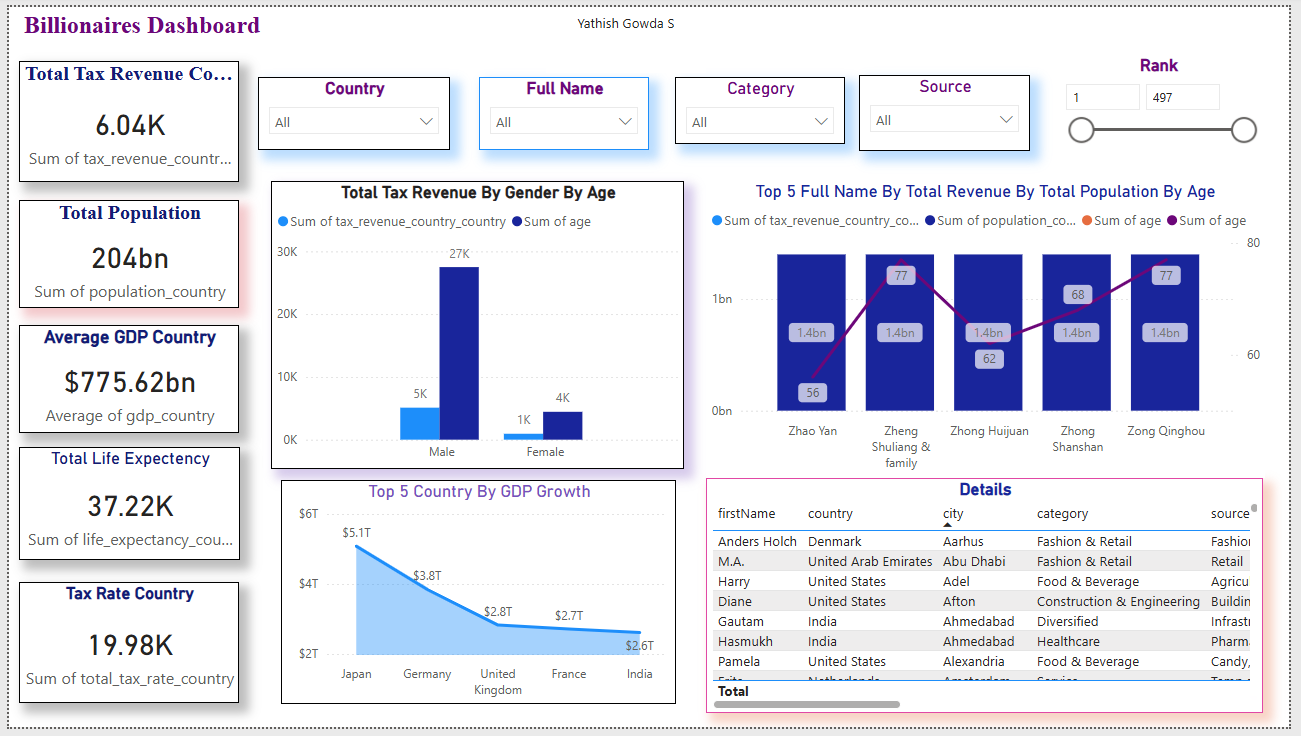

This screenshot's page, from the dashboard's own definition file:
{"tool":"powerbi","page":{"name":"Page 1","canvas":[1280,720],"ordinal":0},"visuals":[{"type":"textbox","box":[9.7,0,280.1,47.7],"z":0},{"type":"card","title":"Total Tax Revenue Country ","fields":{"Values":["Sum(Billionaires Statistics Dataset - Billionaires Statistics Dataset.tax_revenue_country_country)"]},"box":[9.7,54.5,219.8,120.6],"z":1000},{"type":"card","title":"Total Population","fields":{"Values":["Sum(Billionaires Statistics Dataset - Billionaires Statistics Dataset.population_country)"]},"box":[10,193.3,220,107.8],"z":2000},{"type":"card","title":"Average GDP Country","fields":{"Values":["Avg(Billionaires Statistics Dataset - Billionaires Statistics Dataset.gdp_country)"]},"box":[10,317.8,220,107.8],"z":3000},{"type":"card","title":"Total Life Expectency","fields":{"Values":["Sum(Billionaires Statistics Dataset - Billionaires Statistics Dataset.life_expectancy_country)"]},"box":[9.6,440.5,220.9,112.5],"z":4000},{"type":"card","title":"Tax Rate Country","fields":{"Values":["Sum(Billionaires Statistics Dataset - Billionaires Statistics Dataset.total_tax_rate_country)"]},"box":[9.7,574.8,219.8,121.6],"z":5000},{"type":"clusteredColumnChart","title":"Total Tax Revenue By Gender By Age ","fields":{"Y":["Sum(Billionaires Statistics Dataset - Billionaires Statistics Dataset.tax_revenue_country_country)","Sum(Billionaires Statistics Dataset - Billionaires Statistics Dataset.age)"],"Category":["Billionaires Statistics Dataset - Billionaires Statistics Dataset.gender"]},"box":[262.1,174.3,413,288.2],"z":6000},{"type":"slicer","title":"Country","fields":{"Values":["Billionaires Statistics Dataset - Billionaires Statistics Dataset.country"]},"box":[249.5,69.7,192,73.4],"z":7000},{"type":"slicer","title":"Full Name ","fields":{"Values":["Billionaires Statistics Dataset - Billionaires Statistics Dataset.firstName"]},"box":[469.6,69.7,170,73.4],"z":8000},{"type":"slicer","title":"Category","fields":{"Values":["Billionaires Statistics Dataset - Billionaires Statistics Dataset.category"]},"box":[666.4,69.7,170,67.3],"z":9000},{"type":"slicer","title":"Source","fields":{"Values":["Billionaires Statistics Dataset - Billionaires Statistics Dataset.source"]},"box":[849.9,68.5,171.2,75.8],"z":10000},{"type":"slicer","title":"Rank","fields":{"Values":["Billionaires Statistics Dataset - Billionaires Statistics Dataset.rank"]},"box":[1044.3,47.7,211.6,102.7],"z":11000},{"type":"areaChart","title":"Top 5 Country By GDP Growth","fields":{"Category":["Billionaires Statistics Dataset - Billionaires Statistics Dataset.country"],"Y":["Avg(Billionaires Statistics Dataset - Billionaires Statistics Dataset.gdp_country)"]},"box":[271.7,473.4,395.2,223.7],"z":12000},{"type":"tableEx","title":"Details","fields":{"Values":["Billionaires Statistics Dataset - Billionaires Statistics Dataset.firstName","Billionaires Statistics Dataset - Billionaires Statistics Dataset.country","Billionaires Statistics Dataset - Billionaires Statistics Dataset.city","Billionaires Statistics Dataset - Billionaires Statistics Dataset.category","Billionaires Statistics Dataset - Billionaires Statistics Dataset.source","Billionaires Statistics Dataset - Billionaires Statistics Dataset.gender","Sum(Billionaires Statistics Dataset - Billionaires Statistics Dataset.tax_revenue_country_country)","Sum(Billionaires Statistics Dataset - Billionaires Statistics Dataset.total_tax_rate_country)","Avg(Billionaires Statistics Dataset - Billionaires Statistics Dataset.gdp_country)","Sum(Billionaires Statistics Dataset - Billionaires Statistics Dataset.age)","Sum(Billionaires Statistics Dataset - Billionaires Statistics Dataset.population_country)"]},"box":[697.1,471.4,557.1,234.3],"z":13000},{"type":"textbox","box":[536.8,2.4,160.2,63.6],"z":14000},{"type":"lineStackedColumnComboChart","title":"Top 5 Full Name By Total Revenue By Total Population By Age","fields":{"Y":["Sum(Billionaires Statistics Dataset - Billionaires Statistics Dataset.tax_revenue_country_country)","Sum(Billionaires Statistics Dataset - Billionaires Statistics Dataset.population_country)","Sum(Billionaires Statistics Dataset - Billionaires Statistics Dataset.age)"],"Category":["Billionaires Statistics Dataset - Billionaires Statistics Dataset.personName"],"Y2":["Sum(Billionaires Statistics Dataset - Billionaires Statistics Dataset.age)"]},"box":[697.1,174.3,558.6,297.1],"z":15000}]}

Visuals, with their boxes in screenshot pixels (x1, y1, x2, y2), scaled from the page's 1280x720 canvas onto the 1301x736 screenshot:
textbox: bbox=(10, 0, 295, 49)
"Total Tax Revenue Country " card: bbox=(10, 56, 233, 179)
"Total Population" card: bbox=(10, 198, 234, 308)
"Average GDP Country" card: bbox=(10, 325, 234, 435)
"Total Life Expectency" card: bbox=(10, 450, 234, 565)
"Tax Rate Country" card: bbox=(10, 588, 233, 712)
"Total Tax Revenue By Gender By Age " clusteredColumnChart: bbox=(266, 178, 686, 473)
"Country" slicer: bbox=(254, 71, 449, 146)
"Full Name " slicer: bbox=(477, 71, 650, 146)
"Category" slicer: bbox=(677, 71, 850, 140)
"Source" slicer: bbox=(864, 70, 1038, 148)
"Rank" slicer: bbox=(1061, 49, 1277, 154)
"Top 5 Country By GDP Growth" areaChart: bbox=(276, 484, 678, 713)
"Details" tableEx: bbox=(709, 482, 1275, 721)
textbox: bbox=(546, 2, 708, 67)
"Top 5 Full Name By Total Revenue By Total Population By Age" lineStackedColumnComboChart: bbox=(709, 178, 1276, 482)
